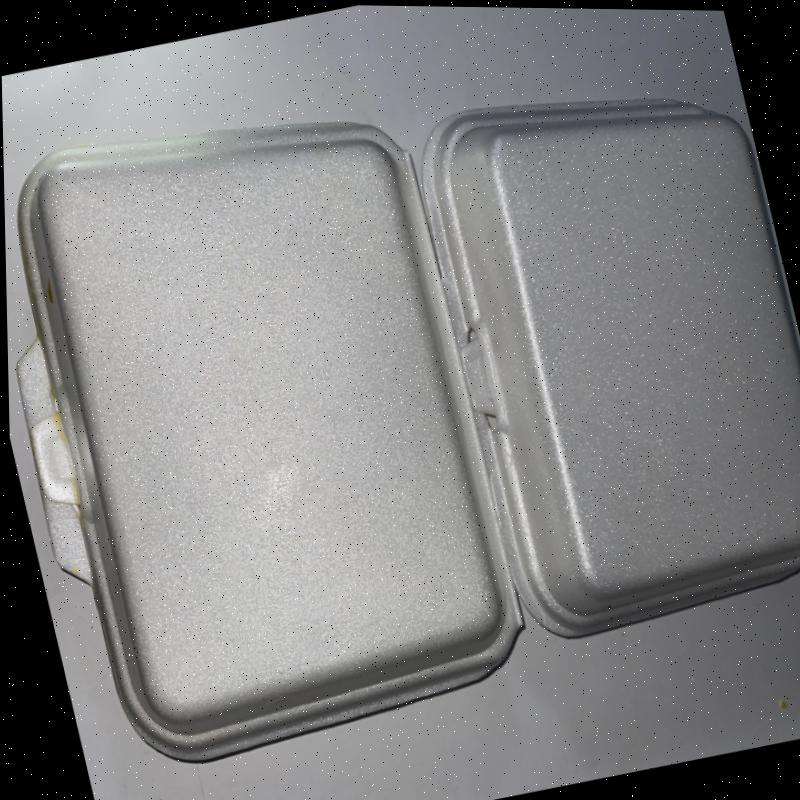styrofoam containers: (13, 120, 523, 766), (417, 98, 800, 640)
